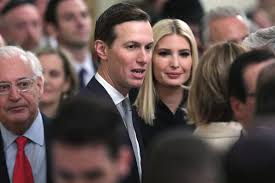middle_eastern_male: (100, 6, 155, 90)
